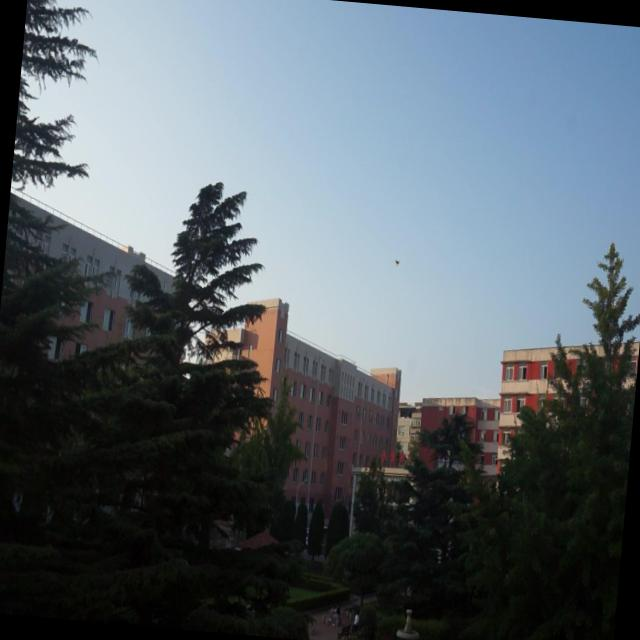drone: (393, 254, 401, 268)
